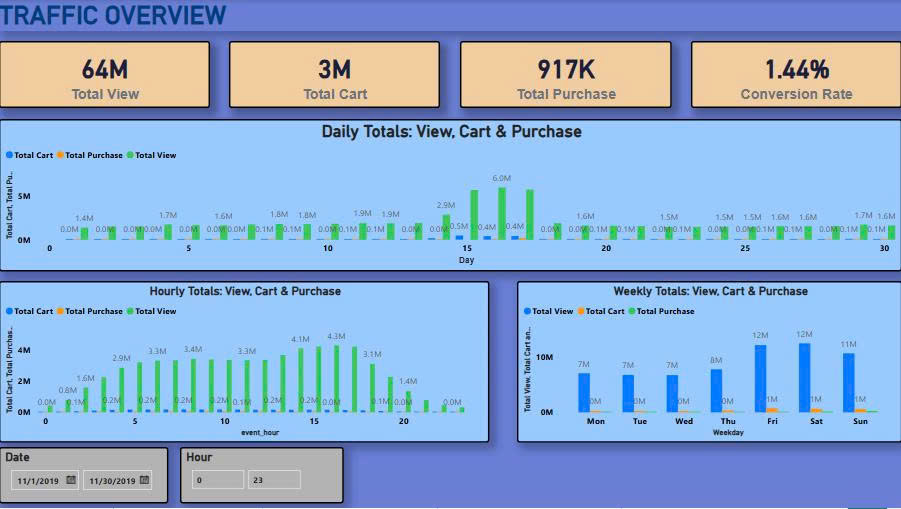

What the dashboard file says about the page in this screenshot:
{"tool":"powerbi","page":{"name":"TRAFFIC OVERVIEW","canvas":[1280,720],"ordinal":0},"visuals":[{"type":"shape","title":"TRAFFIC OVERVIEW","box":[0,0,1280.2,43.9],"z":0},{"type":"card","fields":{"Values":["Calendar.Total View"]},"box":[0,58,299.4,94.8],"z":1000},{"type":"card","fields":{"Values":["Calendar.Total Cart"]},"box":[326.6,58,299.4,94.8],"z":2000},{"type":"card","fields":{"Values":["Calendar.Total Purchase"]},"box":[653.3,58,300.3,94.8],"z":3000},{"type":"card","fields":{"Values":["Calendar.Conversion Rate"]},"box":[980.8,58,299.4,94.8],"z":4000},{"type":"lineClusteredColumnComboChart","title":"Daily Totals: View, Cart & Purchase","fields":{"Category":["Calendar.Date.Variation.Date Hierarchy.Day"],"Y":["Calendar.Total Cart","Calendar.Total Purchase","Calendar.Total View"]},"box":[0,168,1280,216],"z":5000},{"type":"clusteredColumnChart","title":"Hourly Totals: View, Cart & Purchase","fields":{"Category":["traffic.event_hour"],"Y":["Calendar.Total Cart","Calendar.Total Purchase","Calendar.Total View"]},"box":[0,398.6,694.5,229.2],"z":6000},{"type":"clusteredColumnChart","title":"Weekly Totals: View, Cart & Purchase","fields":{"Category":["Calendar.Weekday"],"Y":["Calendar.Total View","Calendar.Total Cart","Calendar.Total Purchase"]},"box":[734,398.6,546.1,229.2],"z":7000},{"type":"slicer","title":"Date","fields":{"Values":["Calendar.Date"]},"box":[0.5,633.2,240,80],"z":8000},{"type":"slicer","title":"Hour","fields":{"Values":["traffic.event_hour"]},"box":[256.5,633.2,232,80],"z":9000}]}

Visuals, with their boxes in screenshot pixels (x1, y1, x2, y2), scaled from the page's 1280x720 canvas onto the 901x509 screenshot:
"TRAFFIC OVERVIEW" shape: <box>0,0,900,31</box>
card - Calendar.Total View: <box>0,41,211,108</box>
card - Calendar.Total Cart: <box>230,41,441,108</box>
card - Calendar.Total Purchase: <box>460,41,671,108</box>
card - Calendar.Conversion Rate: <box>690,41,900,108</box>
"Daily Totals: View, Cart & Purchase" lineClusteredColumnComboChart: <box>0,119,900,271</box>
"Hourly Totals: View, Cart & Purchase" clusteredColumnChart: <box>0,282,489,444</box>
"Weekly Totals: View, Cart & Purchase" clusteredColumnChart: <box>517,282,900,444</box>
"Date" slicer: <box>0,448,169,504</box>
"Hour" slicer: <box>181,448,344,504</box>
